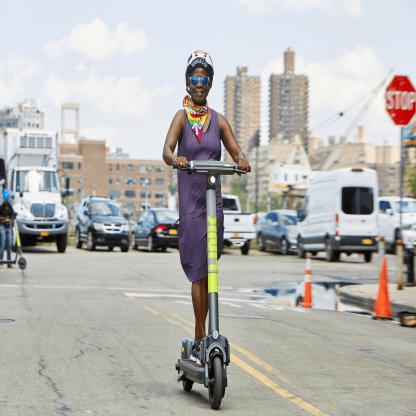scooter: (172, 158, 252, 408)
with helmet: (184, 47, 215, 109)
